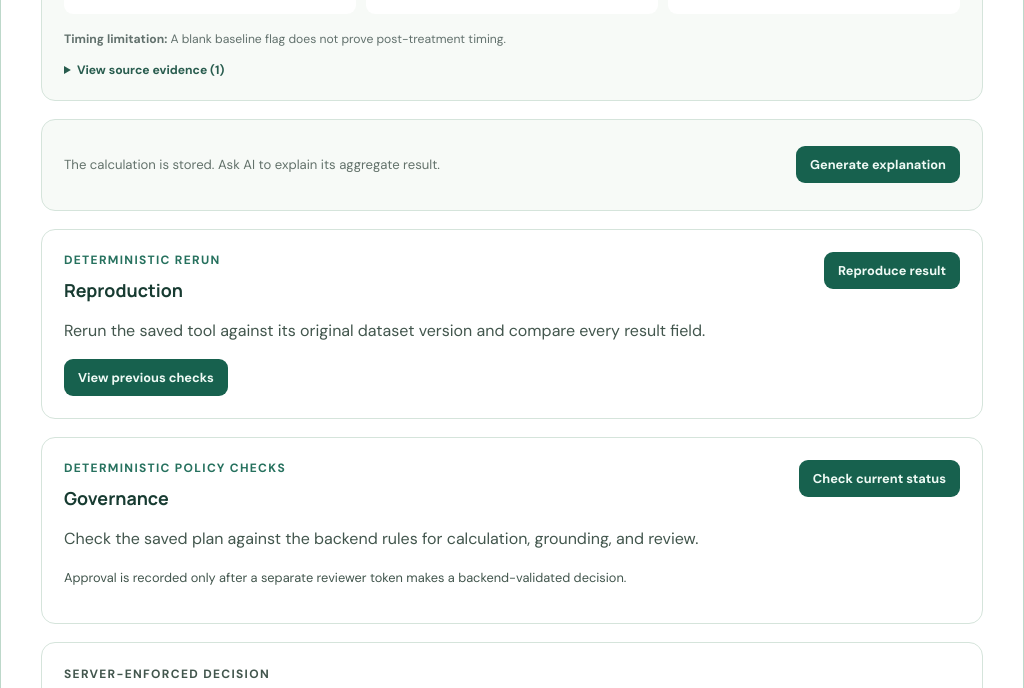
Test case: AnalysisWorkspace › loads saved reproduction history after a page refresh
The image size is (1024, 688).
(page scrolled)
Click the button "View previous checks": x=146, y=378 [64, 359, 228, 396]
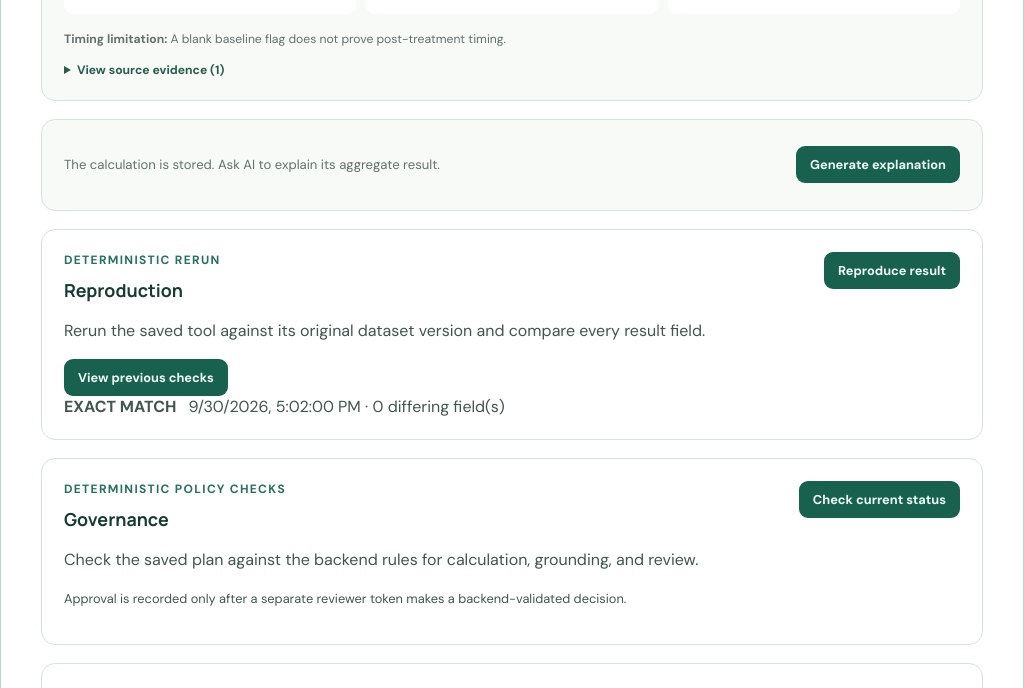
expect the list named "Reproduction history" shows "EXACT MATCH": met, box [64, 396, 176, 417]
